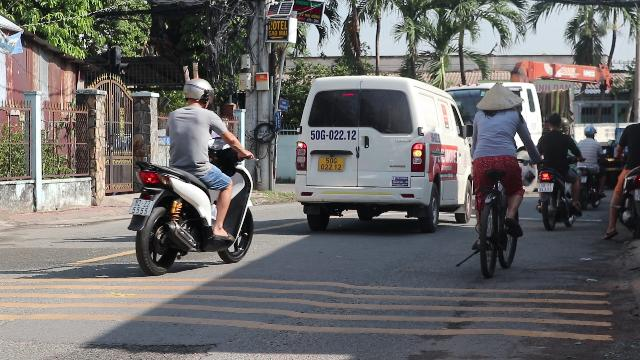helmet: (181, 77, 213, 107)
licenseplate: (129, 198, 153, 216), (538, 183, 554, 192)
motorcyclist: (126, 76, 258, 274), (532, 111, 580, 229)
nohelmet: (544, 112, 564, 132)
